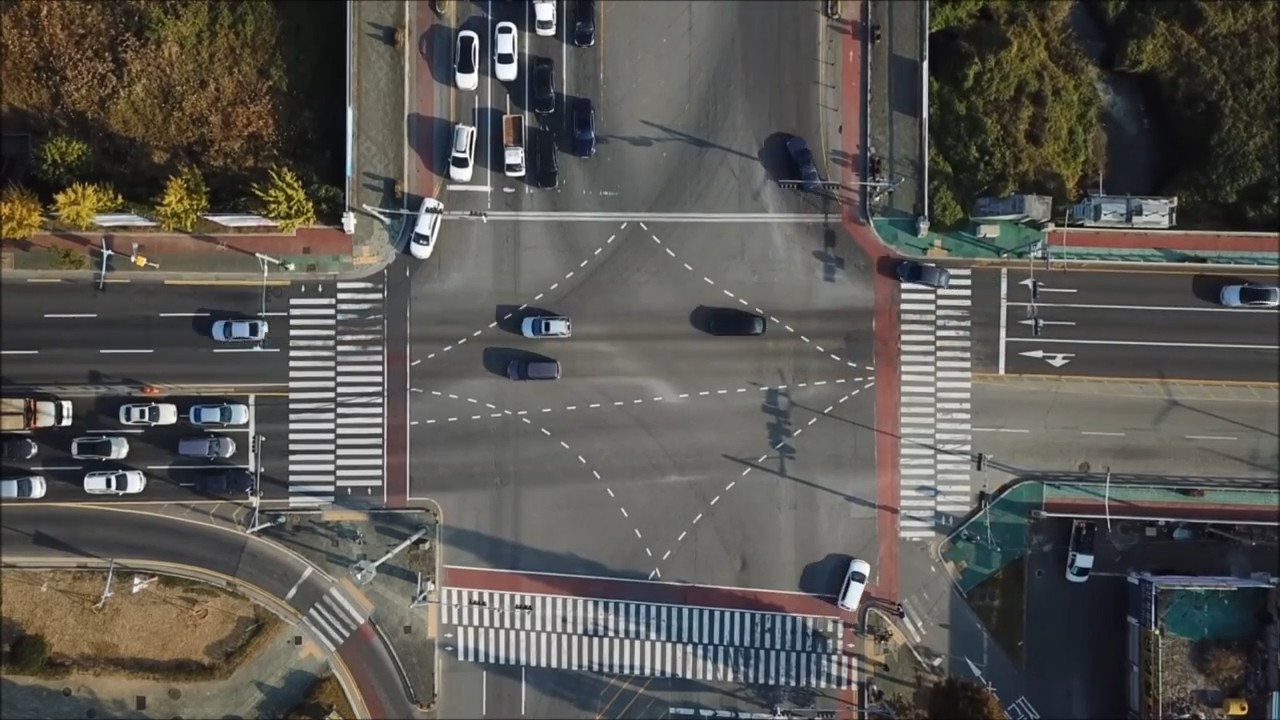car: (1, 396, 73, 433), (408, 196, 444, 259), (782, 136, 822, 192), (833, 557, 871, 613), (1067, 515, 1097, 580), (897, 257, 950, 293), (195, 465, 256, 495), (454, 25, 481, 90), (492, 21, 519, 85), (82, 471, 147, 496), (534, 124, 559, 189), (447, 123, 475, 181), (1220, 281, 1280, 308), (502, 113, 526, 175), (532, 55, 557, 114), (209, 318, 271, 341), (118, 403, 179, 425), (176, 436, 234, 459), (572, 100, 594, 160), (72, 437, 129, 460), (712, 312, 765, 336), (190, 405, 249, 426), (505, 361, 559, 383), (518, 317, 573, 338), (573, 1, 595, 50), (1, 476, 45, 497), (533, 1, 559, 36), (1, 438, 37, 460)
